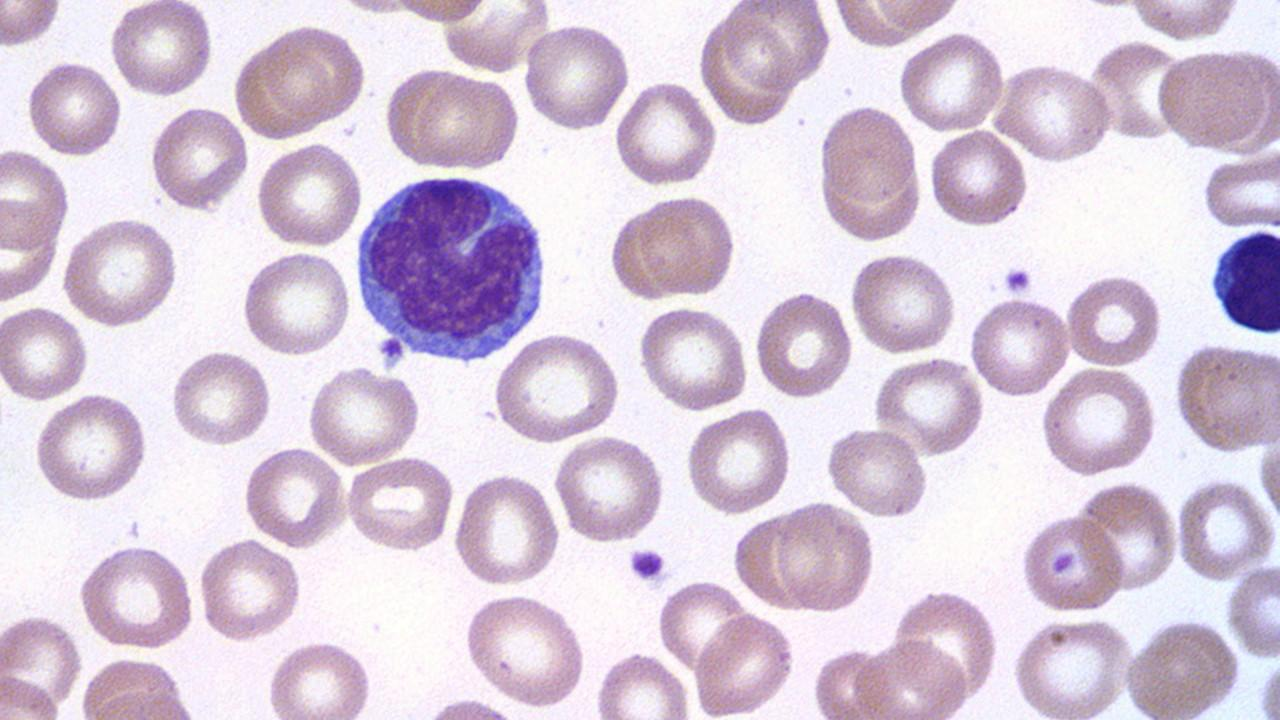Platelets: (626, 546, 670, 586), (1001, 264, 1034, 297)
RBC: (460, 590, 589, 710), (493, 329, 621, 446), (59, 216, 182, 328), (1039, 364, 1159, 478), (30, 391, 152, 503), (1009, 614, 1137, 717), (553, 433, 668, 546), (77, 542, 197, 650), (890, 586, 1000, 703), (453, 470, 562, 588), (1152, 46, 1272, 153), (522, 20, 632, 134), (636, 302, 750, 412), (1172, 338, 1278, 456), (253, 140, 366, 250), (238, 249, 352, 358), (992, 63, 1114, 164), (684, 406, 794, 516), (1075, 478, 1181, 592), (306, 364, 423, 467), (611, 80, 721, 189), (194, 536, 305, 642), (847, 250, 958, 356), (771, 502, 877, 612), (894, 31, 1006, 133), (754, 288, 856, 400), (872, 356, 986, 456), (690, 610, 796, 717), (967, 294, 1075, 398), (1017, 512, 1127, 614), (1123, 618, 1239, 714), (1173, 475, 1277, 582), (344, 454, 457, 552), (149, 103, 251, 211), (240, 446, 348, 547), (410, 73, 522, 170), (1086, 37, 1188, 143), (637, 193, 739, 298), (108, 0, 216, 99), (168, 348, 274, 448), (926, 128, 1032, 228), (816, 103, 918, 204), (264, 22, 367, 122), (1063, 270, 1167, 369), (22, 58, 124, 158), (822, 426, 930, 519), (721, 1, 830, 92), (850, 636, 968, 718), (655, 578, 753, 674), (0, 304, 90, 404), (818, 160, 925, 244), (1, 610, 85, 716), (264, 638, 378, 716), (730, 510, 814, 612), (438, 0, 552, 75), (0, 146, 73, 248), (76, 656, 195, 718), (592, 650, 694, 717), (1199, 148, 1280, 232), (608, 204, 676, 301), (2, 196, 62, 305), (1225, 562, 1279, 661), (1126, 1, 1246, 41), (854, 1, 966, 36), (0, 1, 65, 51), (382, 0, 494, 27), (1255, 424, 1279, 536), (1251, 656, 1279, 720)
WBC: (350, 165, 558, 366), (1206, 223, 1280, 338)
